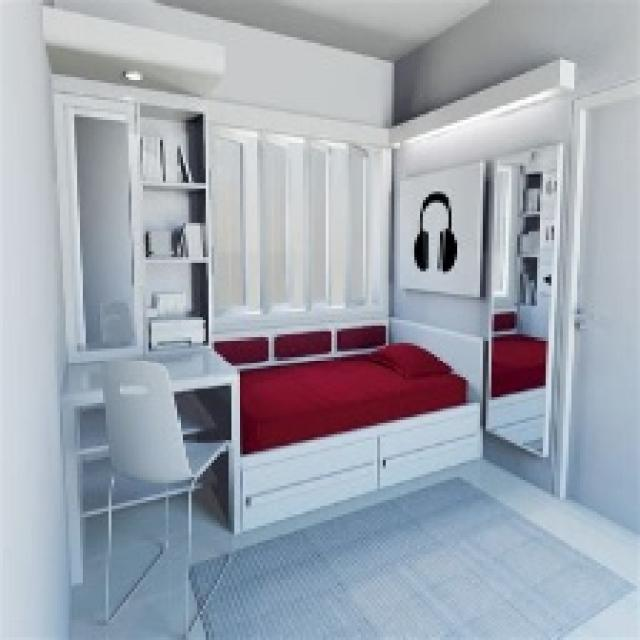Bed: (211, 317, 483, 534)
